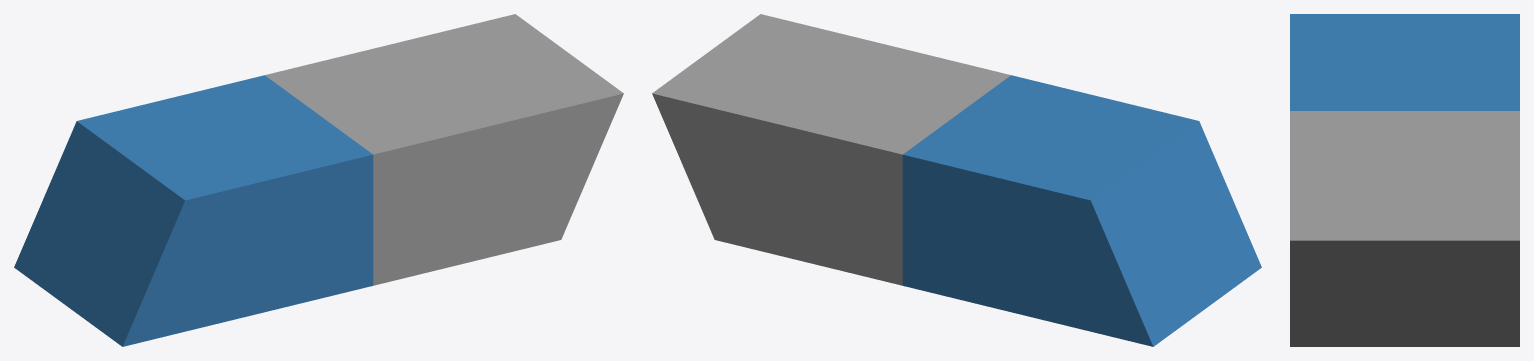
File: eraser.fbx
3 views of the same model, side by side, from view 1: azimuth 30°, elevation 25°; view 2: azimuth 150°, elevation 25°; view 3: azimuth 270°, elevation 25° (orthographic). The views are drawn at different scales.
Parts seen in each view (by area): view 1: eraser; view 2: eraser; view 3: eraser.
Part boxes in pixels (x1=…): eraser: x1=14, y1=14, x2=623, y2=346; eraser: x1=652, y1=14, x2=1261, y2=346; eraser: x1=1290, y1=14, x2=1519, y2=346.
Bounding box in the file's own units: 8 × 2 × 3.
